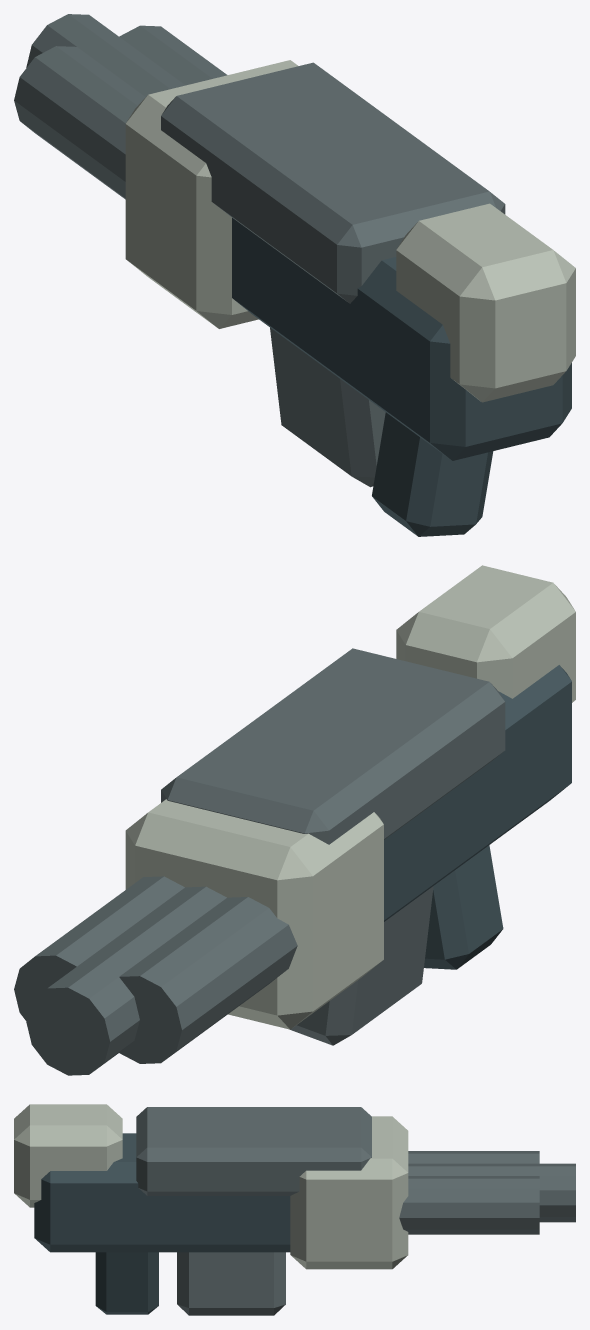
Rendered from breacher.glb.
3 views of the same model, one above another, from view 1: azimuth 30°, elevation 25°; view 2: azimuth 150°, elevation 25°; view 3: azimuth 270°, elevation 25° (orthographic). The views are drawn at different scales.
Parts seen in each view (by area): view 1: weapon; view 2: weapon; view 3: weapon.
Boxes of the visible parts, <box> form: weapon: <box>14,14,575,536</box>; weapon: <box>14,565,575,1075</box>; weapon: <box>14,1104,575,1315</box>.
Size of the model in its own units: 0.29 by 0.4796 by 1.24.
